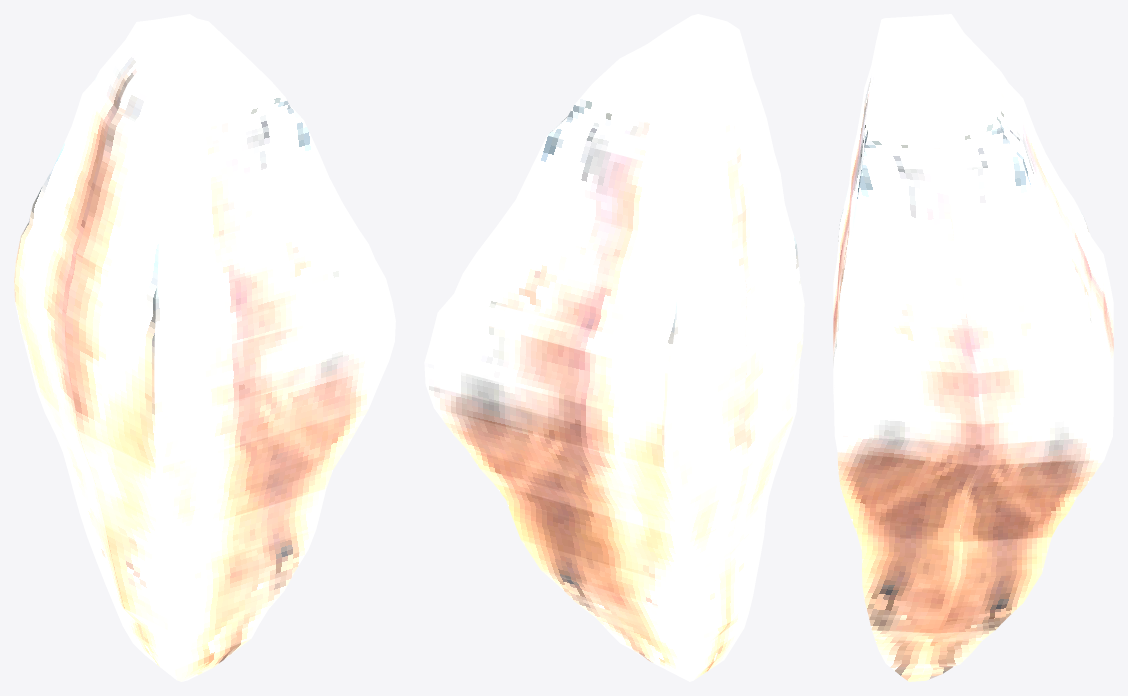
The model's file is metamorphosis_v10_t.glb.
3 views of the same model, side by side, from view 1: azimuth 30°, elevation 25°; view 2: azimuth 150°, elevation 25°; view 3: azimuth 270°, elevation 25° (orthographic).
Parts seen in each view (by area): view 1: Cube; view 2: Cube; view 3: Cube.
Part boxes in pixels (<box>): Cube: <box>14,14,395,681</box>; Cube: <box>424,14,804,681</box>; Cube: <box>833,14,1113,681</box>.
Size of the model in its own units: 0.7242 by 1.64 by 0.6363.
